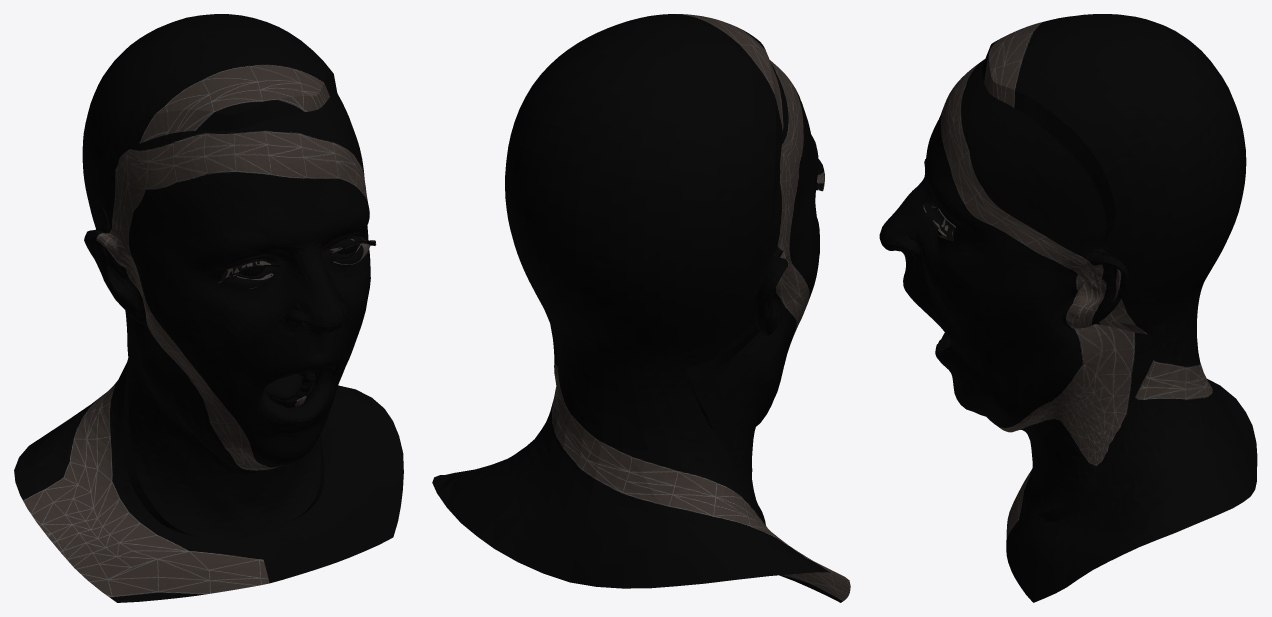
Rendered from ict_mediapipe_M_LacrimalFluid_textured.obj.
The picture shows the model from 3 angles, left to right: view 1: azimuth 30°, elevation 25°; view 2: azimuth 150°, elevation 25°; view 3: azimuth 270°, elevation 25°; orthographic projection. The views are drawn at different scales.
Bounding box in the file's own units: 1.02 × 1.38 × 0.9253.
Materials: 1 (1 with a texture image).
